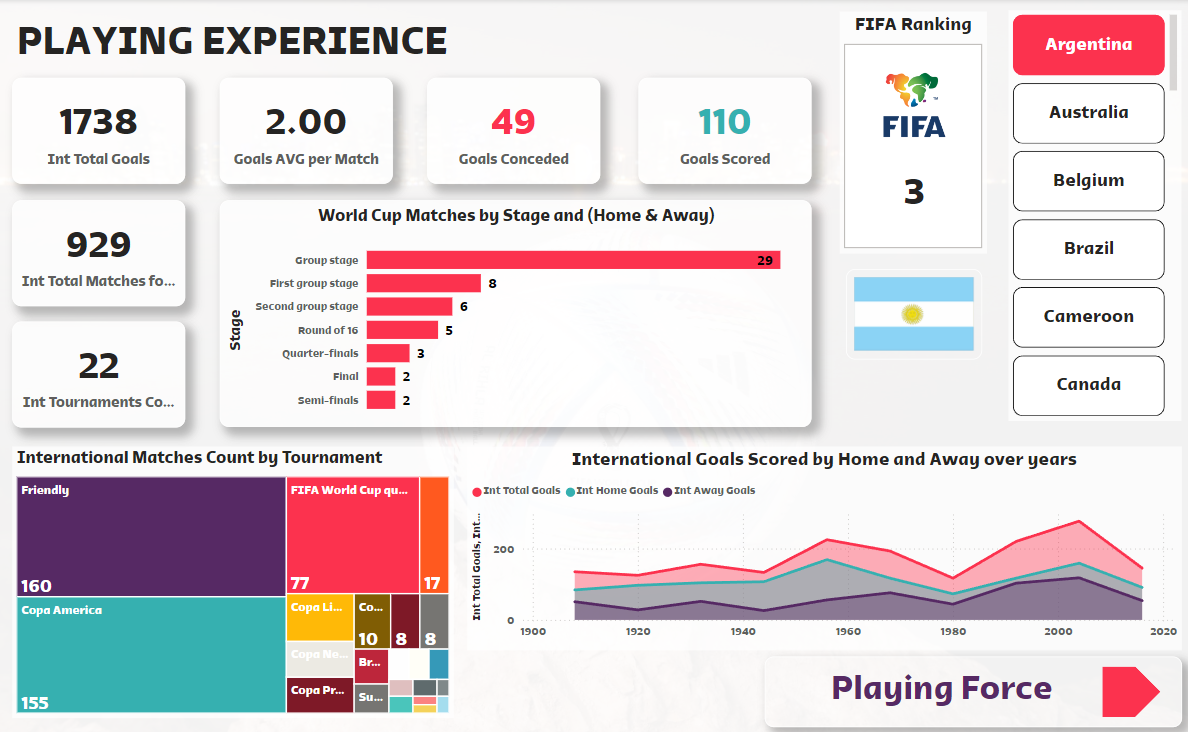

The dashboard page shown, as its layout file describes it:
{"tool":"powerbi","page":{"name":"Playing Experience","canvas":[1300,800],"ordinal":1},"visuals":[{"type":"textbox","box":[18.3,11.7,493.3,90],"z":0},{"type":"treemap","title":"International Matches Count by Tournament","fields":{"Group":["international_matches_facts.Tournament"],"Values":["measures_table.Int Total Matches Count"]},"box":[18.3,486.7,480,295],"z":1000},{"type":"areaChart","title":"International Goals Scored by Home and Away over years","fields":{"Category":["international_matches_facts.Year (bins)"],"Y":["measures_table.Int Total Goals","measures_table.Int Home Goals","measures_table.Int Away Goals"]},"box":[511.7,486.7,776.7,221.7],"z":2000},{"type":"advancedSlicerVisual","fields":{"Values":["2022_world_cup_groups.Team"]},"box":[1100,11.7,188.3,446.7],"z":3000},{"type":"card","fields":{"Values":["measures_table.Int Total Goals"]},"box":[18.3,85,188.3,115],"z":4000},{"type":"card","fields":{"Values":["measures_table.Int Total Matches for team"]},"box":[18.3,218.3,188.3,115],"z":5000},{"type":"card","fields":{"Values":["measures_table.Int Tournaments Count"]},"box":[18.3,350,188.3,115],"z":6000},{"type":"cardVisual","title":"FIFA Ranking","fields":{"Data":["measures_table.FIFA Ranking"]},"box":[916.7,13.3,160,263.3],"z":7000},{"type":"card","fields":{"Values":["measures_table.Total_Goals_Scored"]},"box":[698.3,85,188.3,115],"z":8000},{"type":"card","fields":{"Values":["measures_table.Total_Goals_Conceded"]},"box":[468.3,85,188.3,115],"z":9000},{"type":"card","fields":{"Values":["measures_table.Average_Goals_Scored_per_Match"]},"box":[243.3,85,188.3,115],"z":10000},{"type":"simpleImageEBC4593F96F1425FB3D84C5BF02B5075","fields":{"imageURL":["flags_iso.URL"]},"box":[923.3,293.3,148.3,98.3],"z":11000},{"type":"shape","box":[835,715,453.3,76.7],"z":12000},{"type":"textbox","box":[861.7,718.3,333.3,70],"z":13000},{"type":"shape","box":[1203,725,63.3,55],"z":14000},{"type":"clusteredBarChart","title":"World Cup Matches by Stage and (Home & Away)","fields":{"Category":["world_cup_matches_facts.Stage","world_cup_matches_facts.Home Team","world_cup_matches_facts.Away Team"],"Y":["CountNonNull(world_cup_matches_facts.ID)"]},"box":[243.3,218.3,643.3,246.7],"z":15000}]}

Visuals, with their boxes in screenshot pixels (x1, y1, x2, y2), scaled from the page's 1300x800 canvas onto the 1188x732 screenshot:
textbox: bbox=(17, 11, 468, 93)
"International Matches Count by Tournament" treemap: bbox=(17, 445, 455, 715)
"International Goals Scored by Home and Away over years" areaChart: bbox=(468, 445, 1177, 648)
advancedSlicerVisual - 2022_world_cup_groups.Team: bbox=(1005, 11, 1177, 419)
card - measures_table.Int Total Goals: bbox=(17, 78, 189, 183)
card - measures_table.Int Total Matches for team: bbox=(17, 200, 189, 305)
card - measures_table.Int Tournaments Count: bbox=(17, 320, 189, 425)
"FIFA Ranking" cardVisual: bbox=(838, 12, 984, 253)
card - measures_table.Total_Goals_Scored: bbox=(638, 78, 810, 183)
card - measures_table.Total_Goals_Conceded: bbox=(428, 78, 600, 183)
card - measures_table.Average_Goals_Scored_per_Match: bbox=(222, 78, 394, 183)
simpleImageEBC4593F96F1425FB3D84C5BF02B5075 - flags_iso.URL: bbox=(844, 268, 979, 358)
shape: bbox=(763, 654, 1177, 724)
textbox: bbox=(787, 657, 1092, 721)
shape: bbox=(1099, 663, 1157, 714)
"World Cup Matches by Stage and (Home & Away)" clusteredBarChart: bbox=(222, 200, 810, 425)
